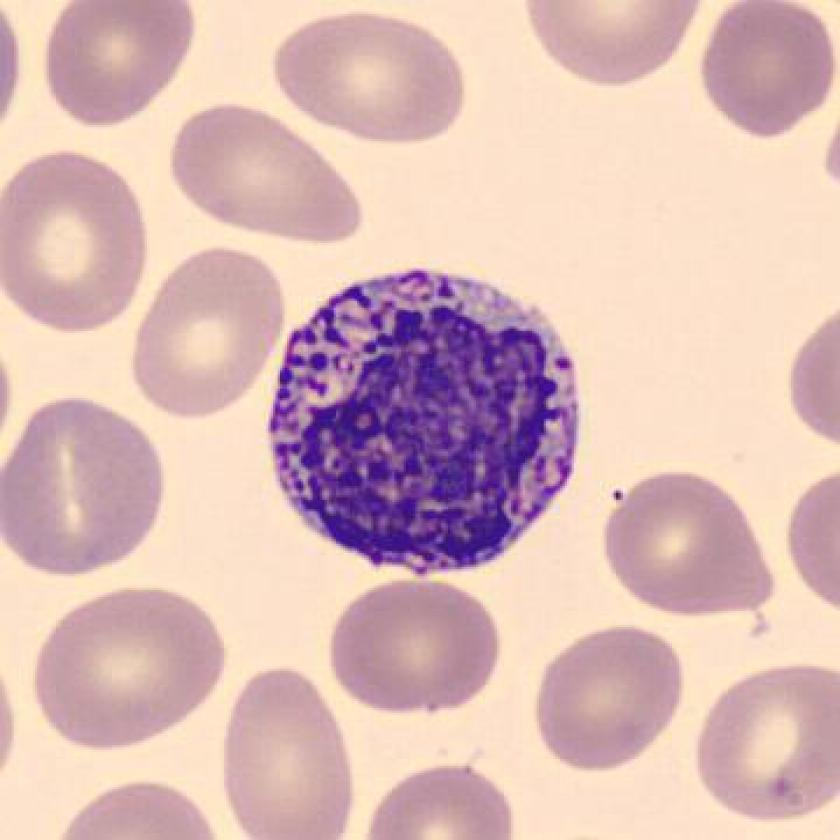basophil: (258, 249, 605, 587)
